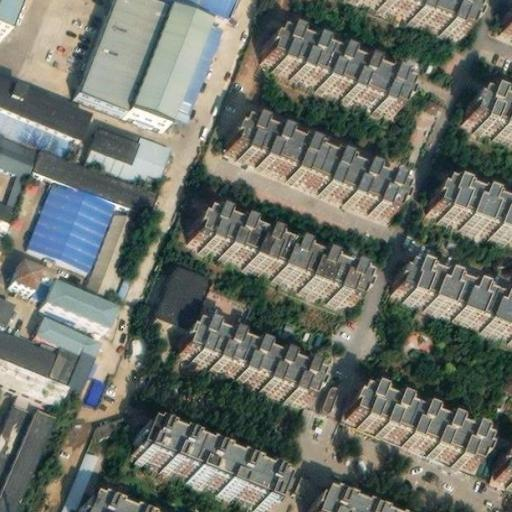building: (188, 209, 363, 306), (224, 120, 399, 217), (133, 413, 280, 499), (261, 26, 403, 112), (343, 388, 482, 465), (177, 322, 315, 399), (81, 0, 169, 104), (32, 142, 160, 212), (392, 264, 512, 338), (29, 174, 116, 265), (84, 204, 146, 295), (172, 15, 225, 117), (84, 121, 176, 177), (33, 310, 103, 383), (429, 181, 512, 241), (0, 291, 59, 369), (47, 272, 122, 322), (157, 257, 207, 319), (377, 0, 472, 31), (58, 444, 95, 512), (465, 89, 512, 135), (81, 487, 167, 512), (310, 491, 382, 512), (13, 250, 46, 284), (494, 4, 512, 44), (493, 451, 512, 485), (86, 372, 106, 400)
